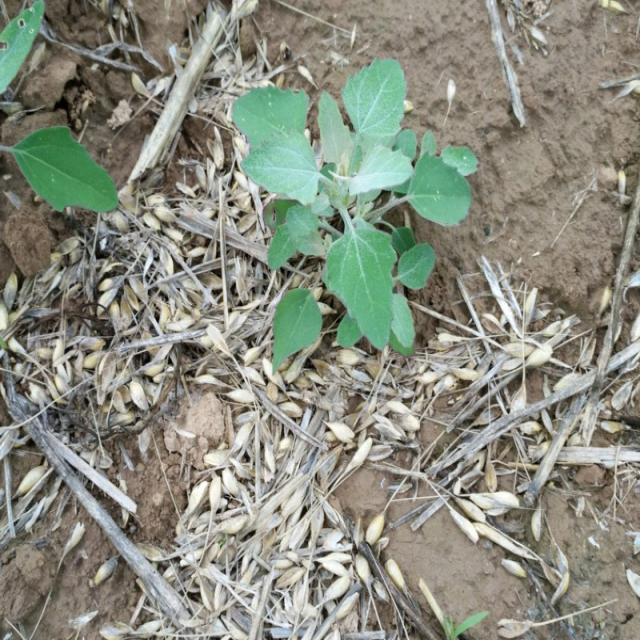goosefoots: (226, 56, 468, 357)
